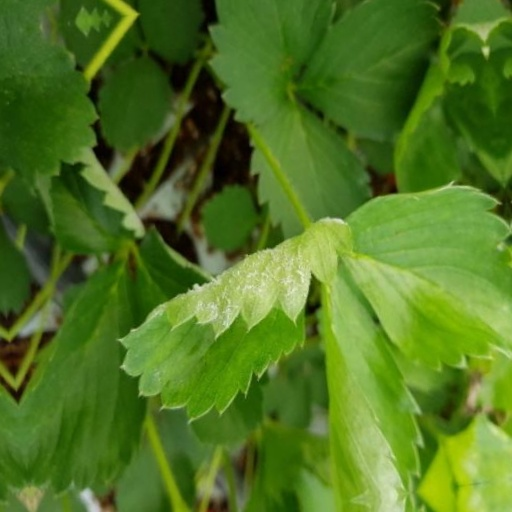Powdery Mildew Leaf: (154, 225, 407, 412)
